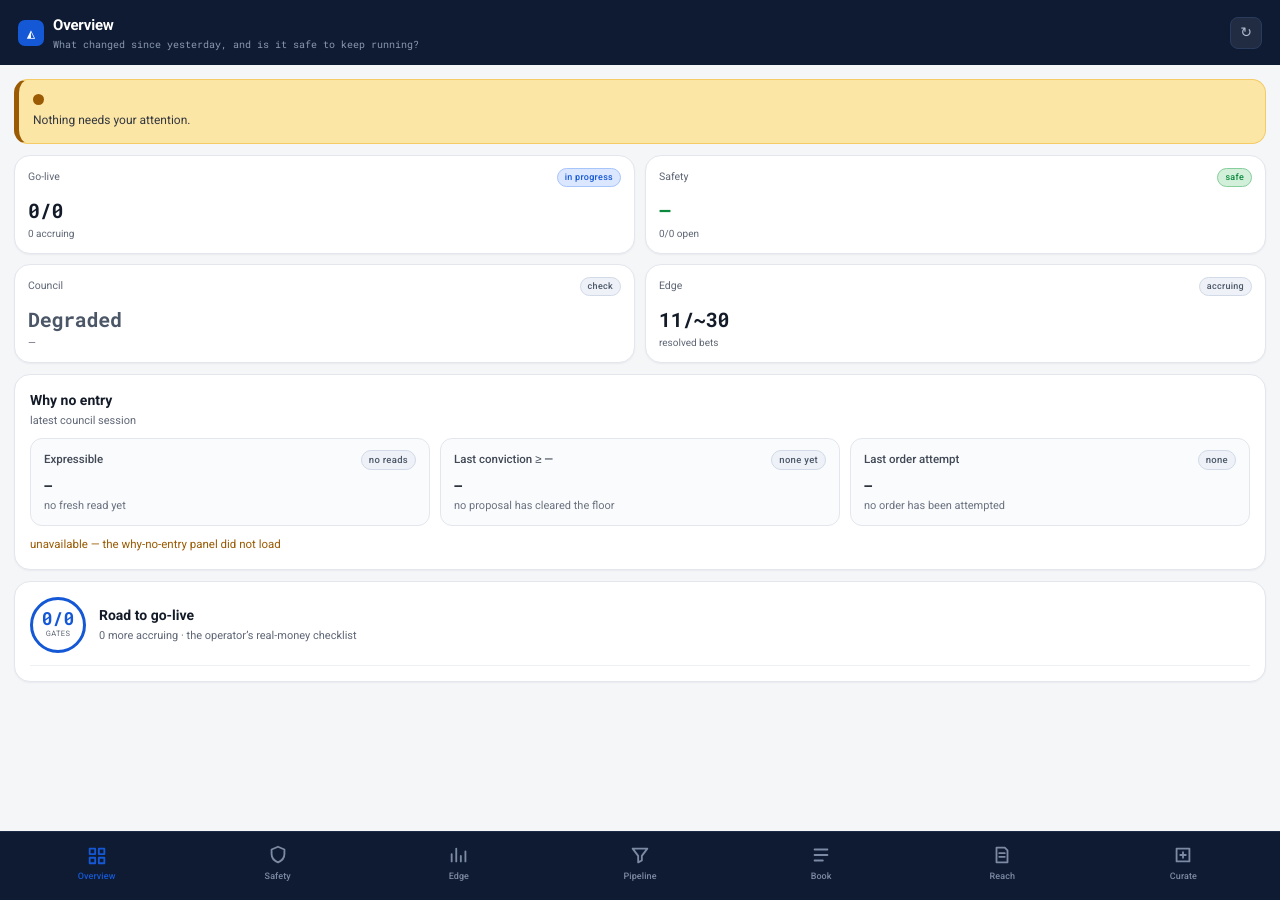
Test: mobile Edge tails (#352) › tagged: shows both numbers and the chip
Click the tab "Edge" at (459, 863), box [368,840,549,886]
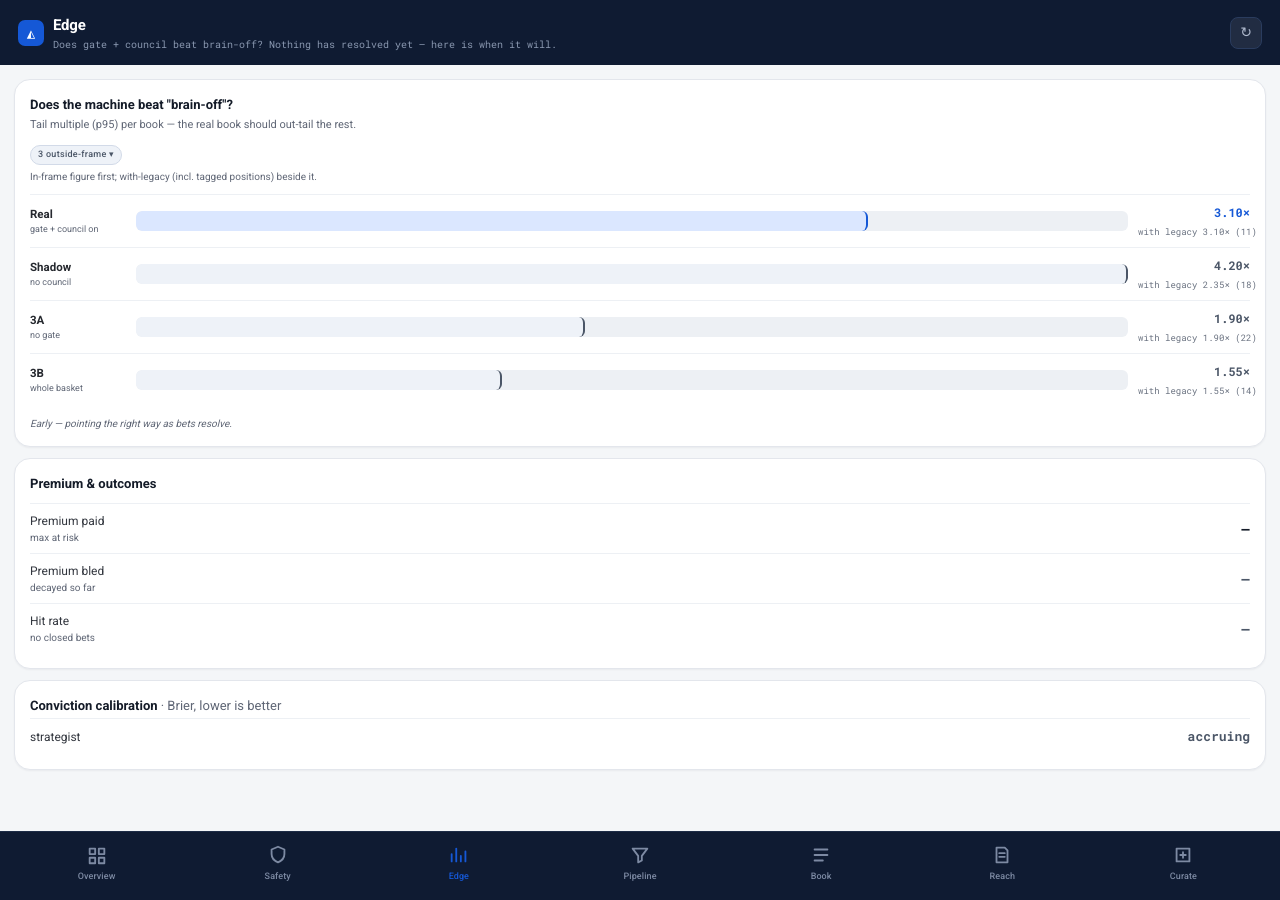
Expected: the text "with legacy 2.35× (18)" is shown, [1138,279,1257,290]
Expected: the button "3 outside-frame ▾" is shown, [30,140,122,165]
